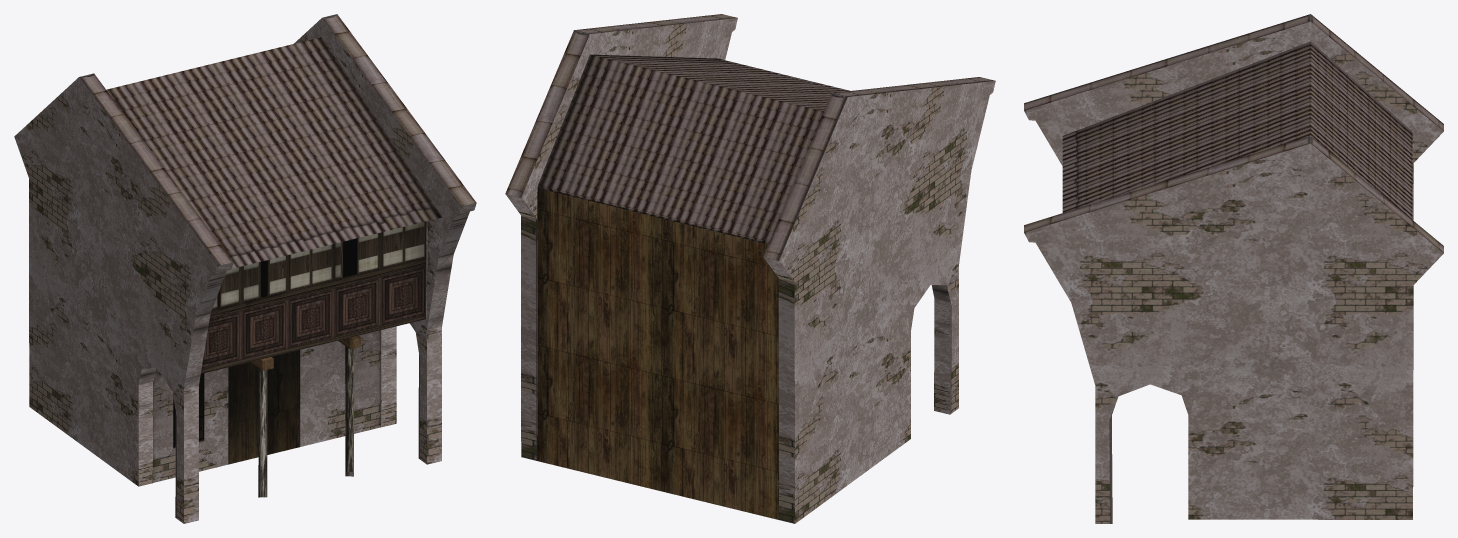
File: house3_LOD2.FBX
3 views of the same model, side by side, from view 1: azimuth 30°, elevation 25°; view 2: azimuth 150°, elevation 25°; view 3: azimuth 270°, elevation 25° (orthographic). The views are drawn at different scales.
Visible parts, largest first — view 1: house3_LOD2; view 2: house3_LOD2; view 3: house3_LOD2.
Boxes of the visible parts, left/top/right/bottom form: house3_LOD2: left=14, top=14, right=476, bottom=523; house3_LOD2: left=505, top=14, right=995, bottom=523; house3_LOD2: left=1024, top=14, right=1443, bottom=523.
Size of the model in its own units: 553 by 757 by 757.
